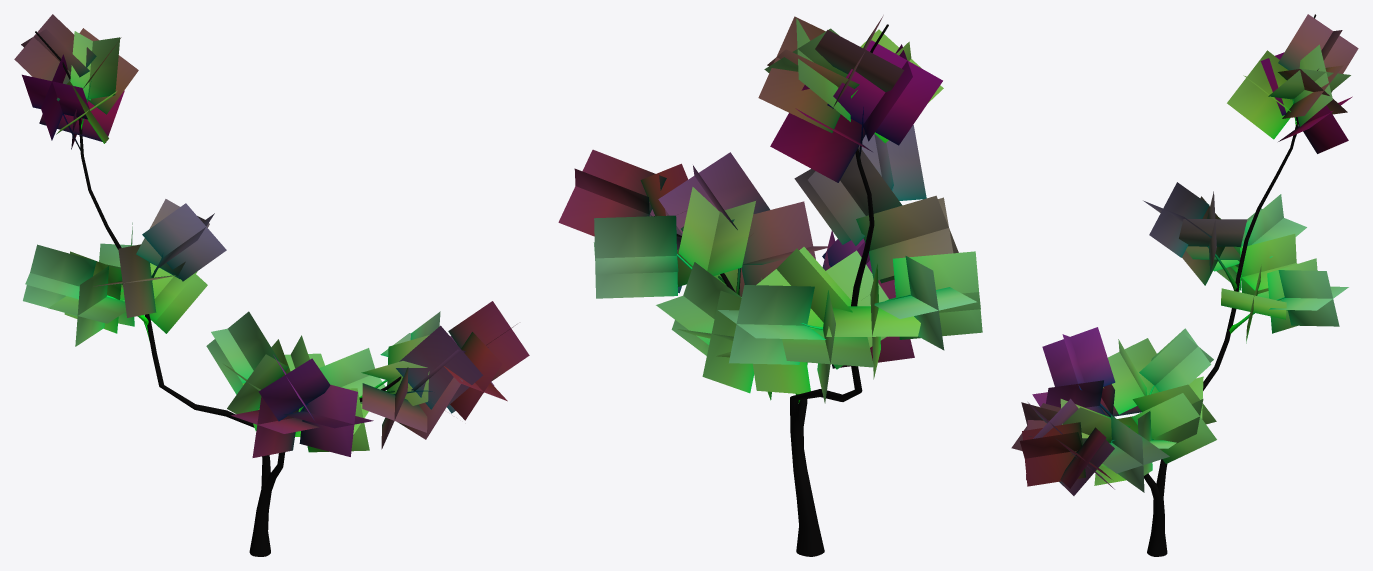
Rendered from URP_P5_Tree_9_LOD_1.fbx.
3 renders of one model, left to right at view 1: azimuth 30°, elevation 25°; view 2: azimuth 150°, elevation 25°; view 3: azimuth 270°, elevation 25°, orthographic. The views are drawn at different scales.
Visible parts, largest first — view 1: Tree_9_LOD_1; view 2: Tree_9_LOD_1; view 3: Tree_9_LOD_1.
Boxes of the visible parts, x1,y1,x2,y2 form: Tree_9_LOD_1: (14,14,529,556); Tree_9_LOD_1: (558,15,982,556); Tree_9_LOD_1: (1011,14,1358,556).
Bounding box in the file's own units: 584 × 688 × 455.
